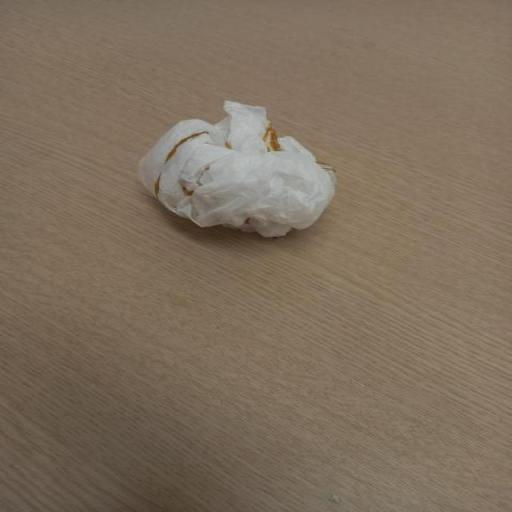plastic-bag: (135, 103, 339, 244)
